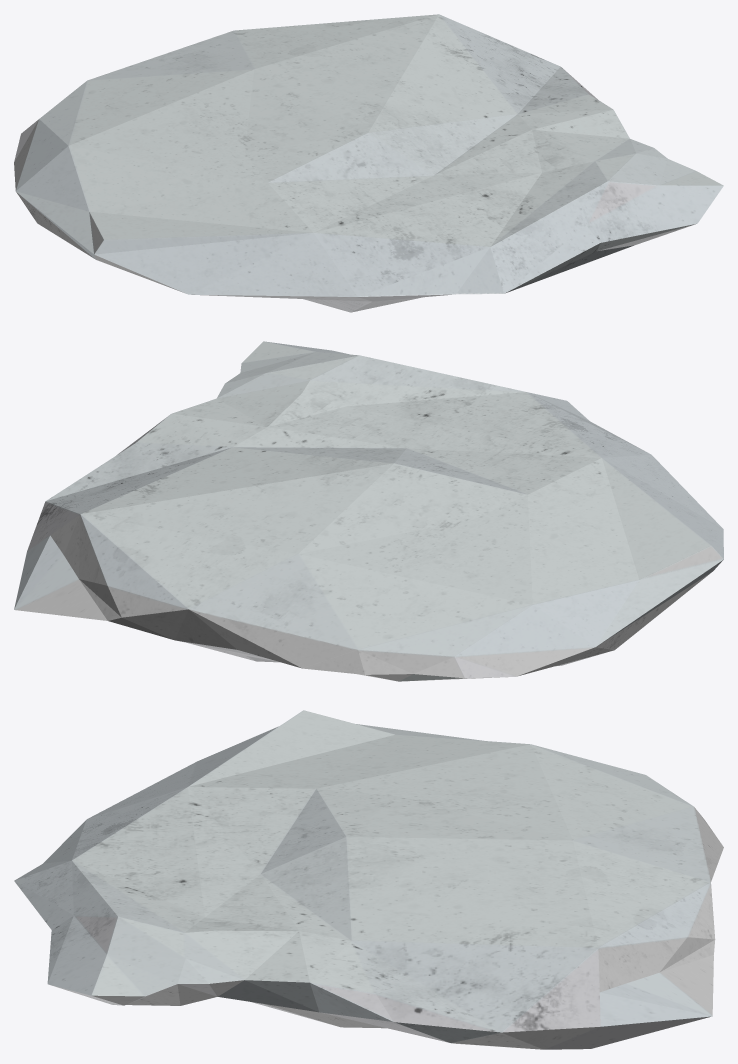
File: Cloud.obj
3 views of the same model, one above another, from view 1: azimuth 30°, elevation 25°; view 2: azimuth 150°, elevation 25°; view 3: azimuth 270°, elevation 25° (orthographic). The views are drawn at different scales.
Visible parts, largest first — view 1: Object.1; view 2: Object.1; view 3: Object.1.
Boxes of the visible parts, x1,y1,x2,y2 form: Object.1: [14, 14, 723, 312]; Object.1: [14, 341, 723, 681]; Object.1: [14, 710, 723, 1049].
Bounding box in the file's own units: 75 × 20 × 75.
Materials: 1 (1 with a texture image).
